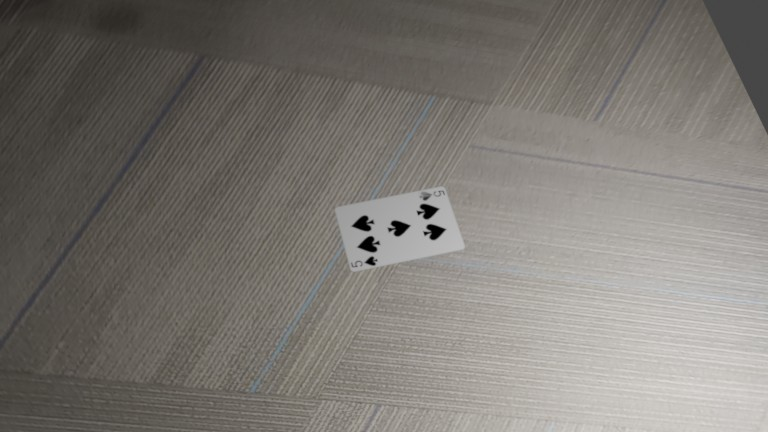5_of_spades: (350, 254, 380, 272), (417, 187, 446, 203)
